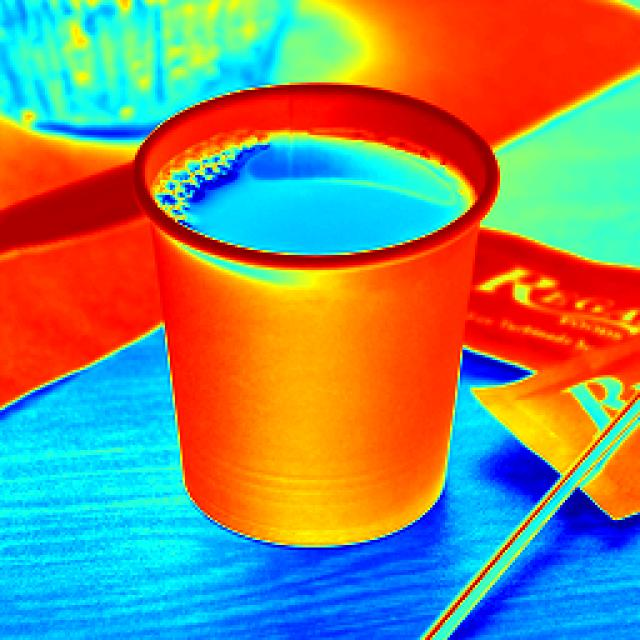Paper Cups: (135, 65, 496, 558)
